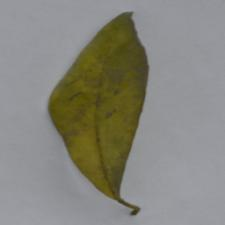Greening: (44, 26, 154, 184)
